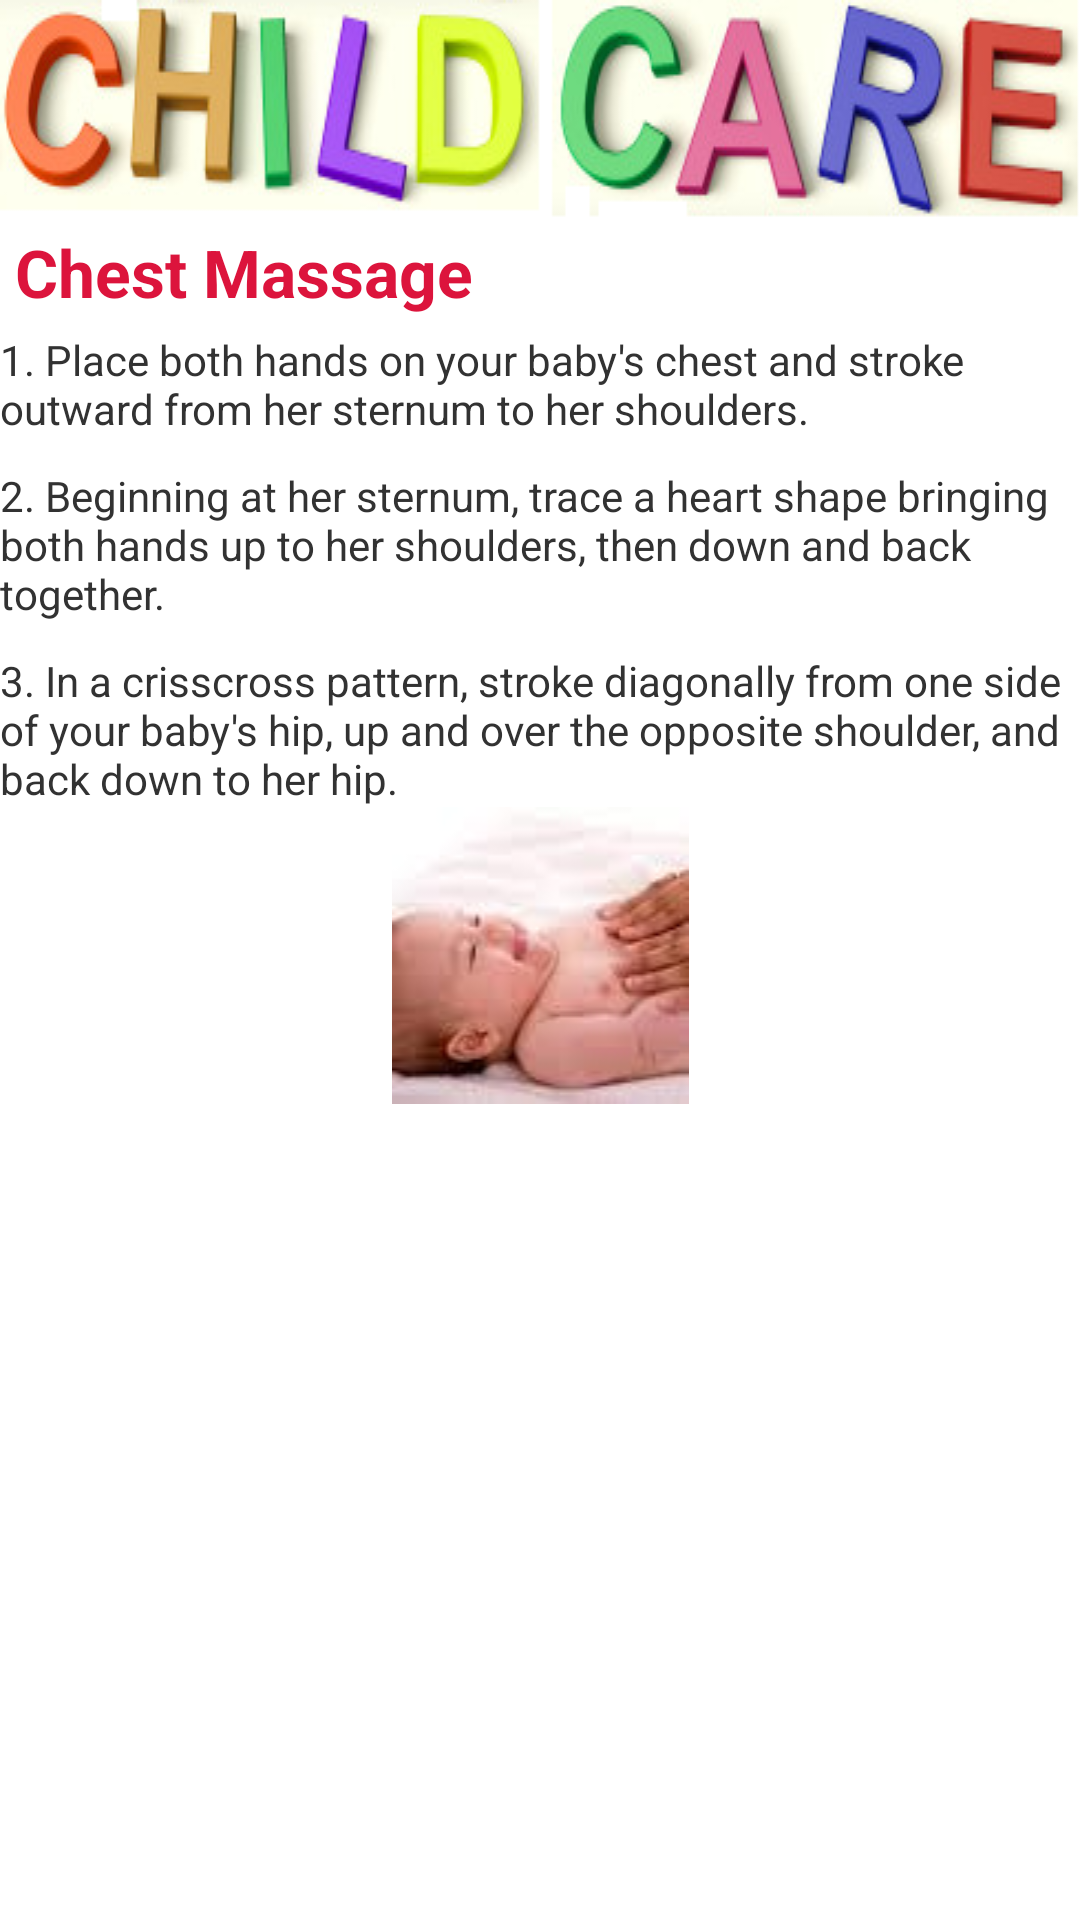

Where to tap for icons on this 1080px×1920px app screen, as [x,y]:
massage chest: [540,968]
